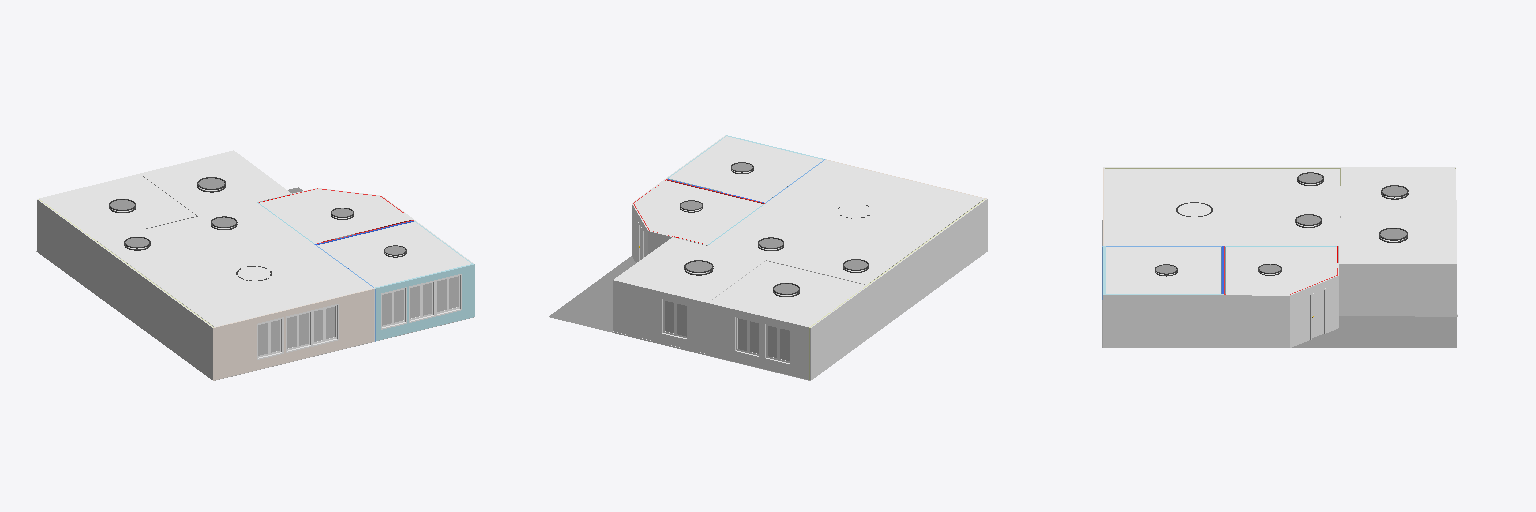
3 renders of one model, left to right at view 1: azimuth 30°, elevation 25°; view 2: azimuth 150°, elevation 25°; view 3: azimuth 270°, elevation 25°, orthographic.
Visible parts, largest first — view 1: room_26_172, wall_1_5, wall_9_63, room_24_169, room_28_176, room_23_167, room_27_174, room_25_171, wall_10_70, room_29_178; view 2: room_26_172, wall_1_5, room_24_169, room_28_176, room_23_167, room_27_174, wall_21_156, wall_22_163, room_25_171, ground_1, room_29_178; view 3: room_26_172, wall_13_93, wall_3_19, room_24_169, room_28_176, room_23_167, room_27_174, ground_1, wall_14_100, room_25_171, wall_6_41, room_29_178.
Part boxes in pixels (x1,y1,x2,y2): room_26_172: (129,225,371,326); wall_1_5: (37,200,212,379); wall_9_63: (213,289,373,380); room_24_169: (40,174,195,240); room_28_176: (317,222,470,287); room_23_167: (141,151,290,215); room_27_174: (260,189,412,242); room_25_171: (149,203,284,250); wall_10_70: (376,264,474,340); room_29_178: (99,230,173,262); room_26_172: (740,161,983,261); wall_1_5: (810,199,987,379); room_24_169: (710,261,866,326); room_28_176: (669,136,822,201); room_23_167: (614,238,765,301); room_27_174: (634,180,762,244); wall_21_156: (613,280,705,353); wall_22_163: (706,303,808,379); room_25_171: (710,224,845,271); ground_1: (549,241,926,380); room_29_178: (821,251,895,283); room_26_172: (1105,169,1276,245); wall_13_93: (1103,295,1222,347); wall_3_19: (1339,264,1456,316); room_24_169: (1341,168,1454,217); room_28_176: (1106,247,1220,293); room_23_167: (1339,218,1455,262); room_27_174: (1226,247,1337,294); ground_1: (1102,220,1456,347); wall_14_100: (1223,295,1289,347); room_25_171: (1280,192,1337,245); wall_6_41: (1290,276,1338,347); room_29_178: (1280,169,1337,191).
Bounding box in the file's own units: 1304 × 267 × 1527.